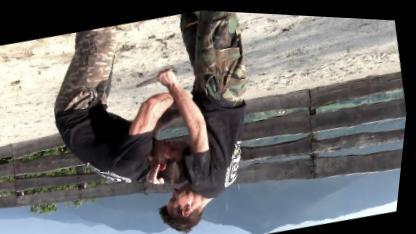knife: (132, 61, 182, 92)
